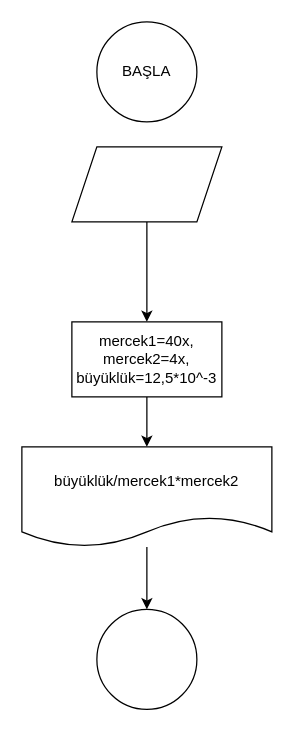
This 294x731 diagram has some shape labels left out. The shapes that lost their labels are listed below. From the top down, each one's centre as x and y in pixels, then its label:
the point at 146,184: mercek1=5x, mercek2=20x zoom=100x
the point at 146,658: DUR
